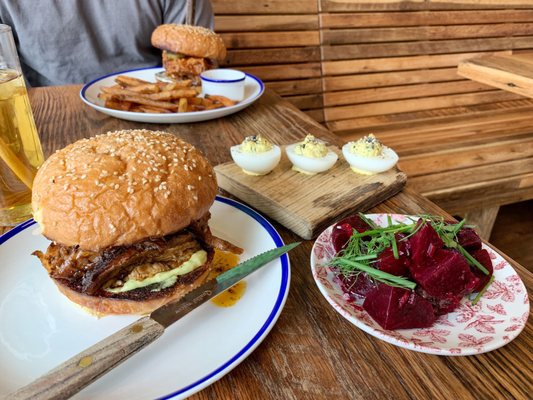pizza: (0, 24, 46, 213)
soup: (29, 130, 236, 320)
sushi: (200, 68, 247, 103)
